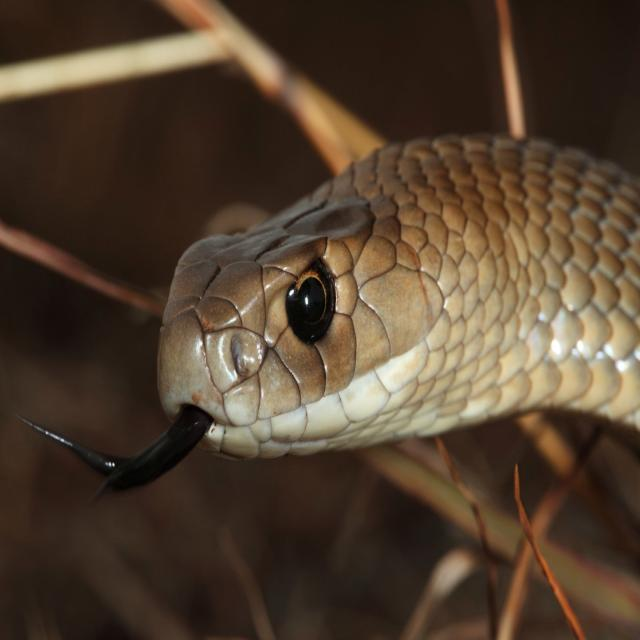snake: (21, 136, 640, 492)
